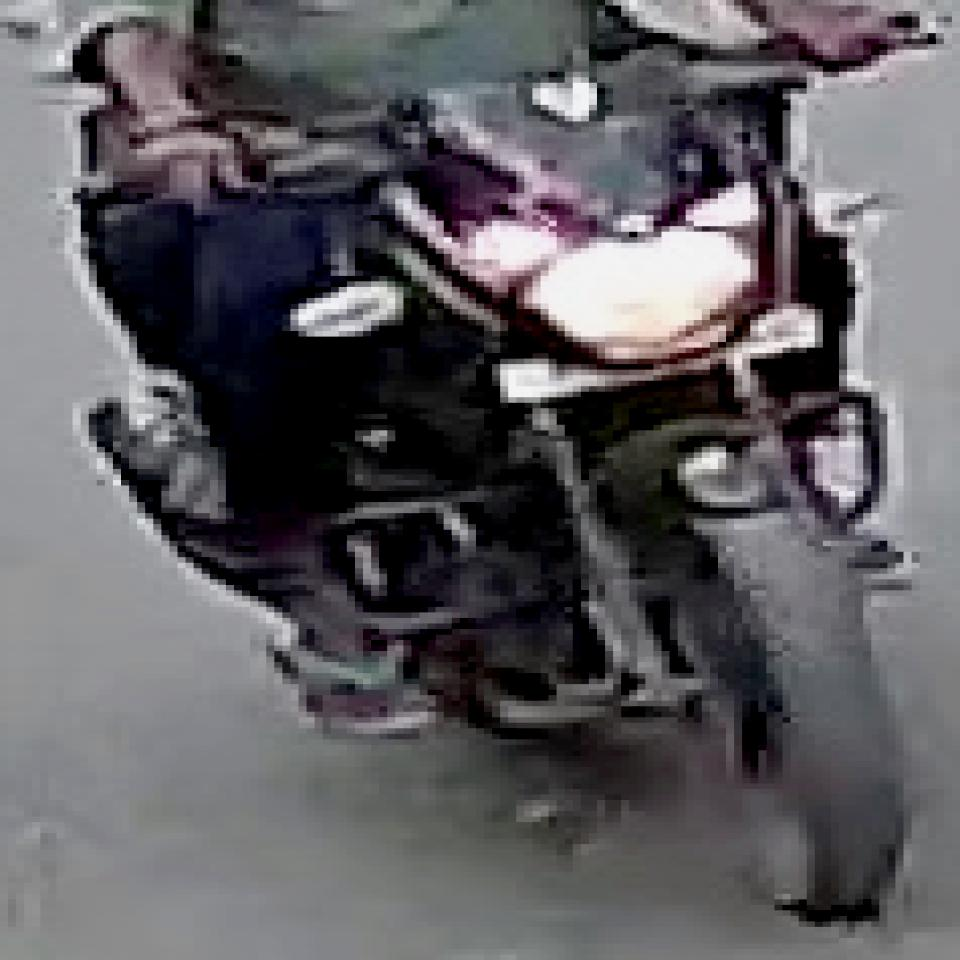head_light: (524, 229, 760, 360)
